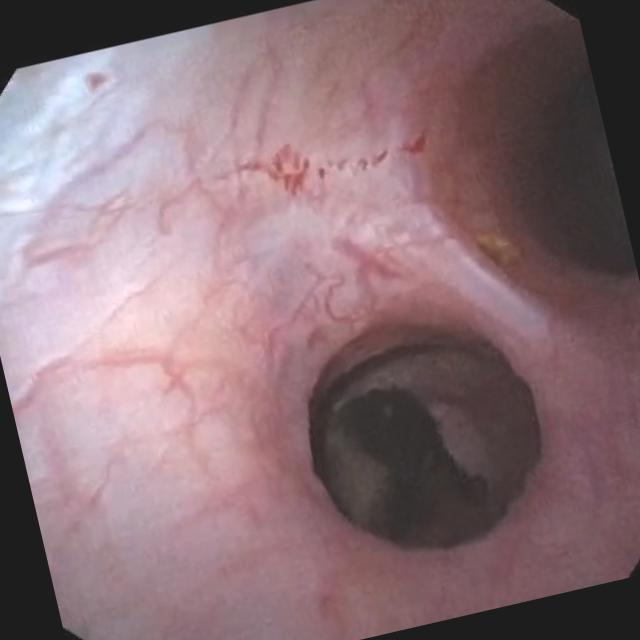stone-new: (322, 389, 481, 543)
